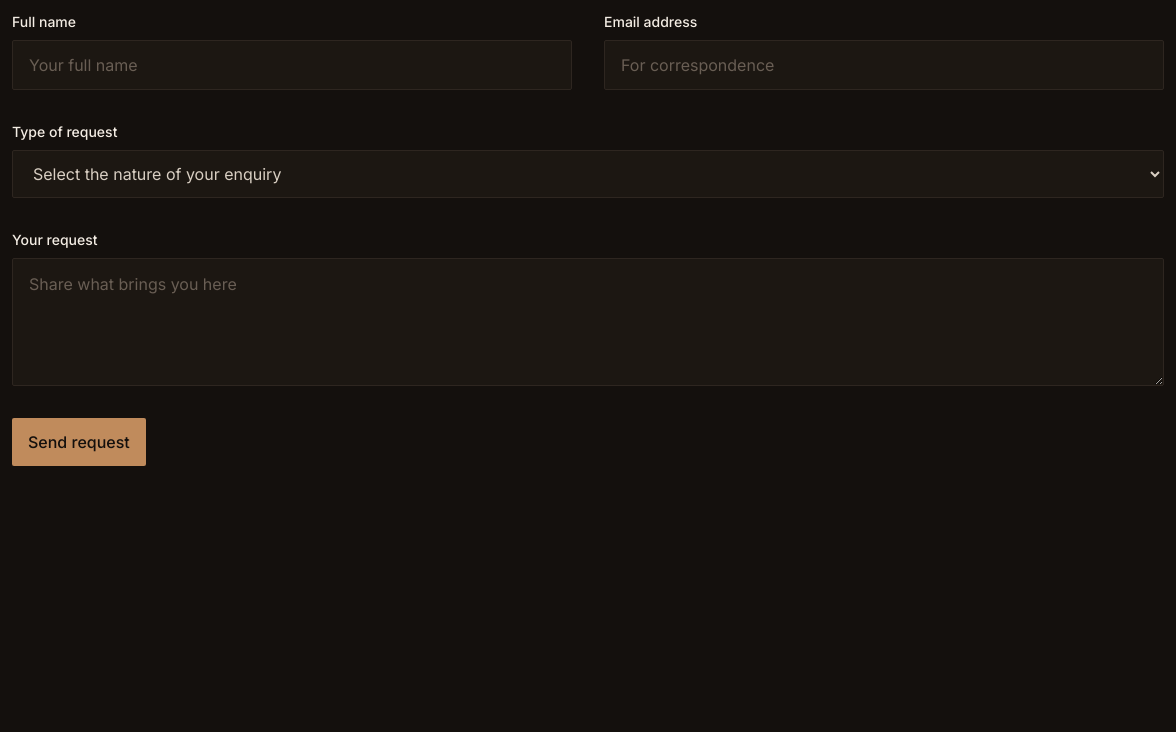
Scenario: RequestForm — submitting › preserves data when the submission fails
Type "Thandi Mokoena" into the field labelled "Full name" at (292, 65), box [12,40,572,90]
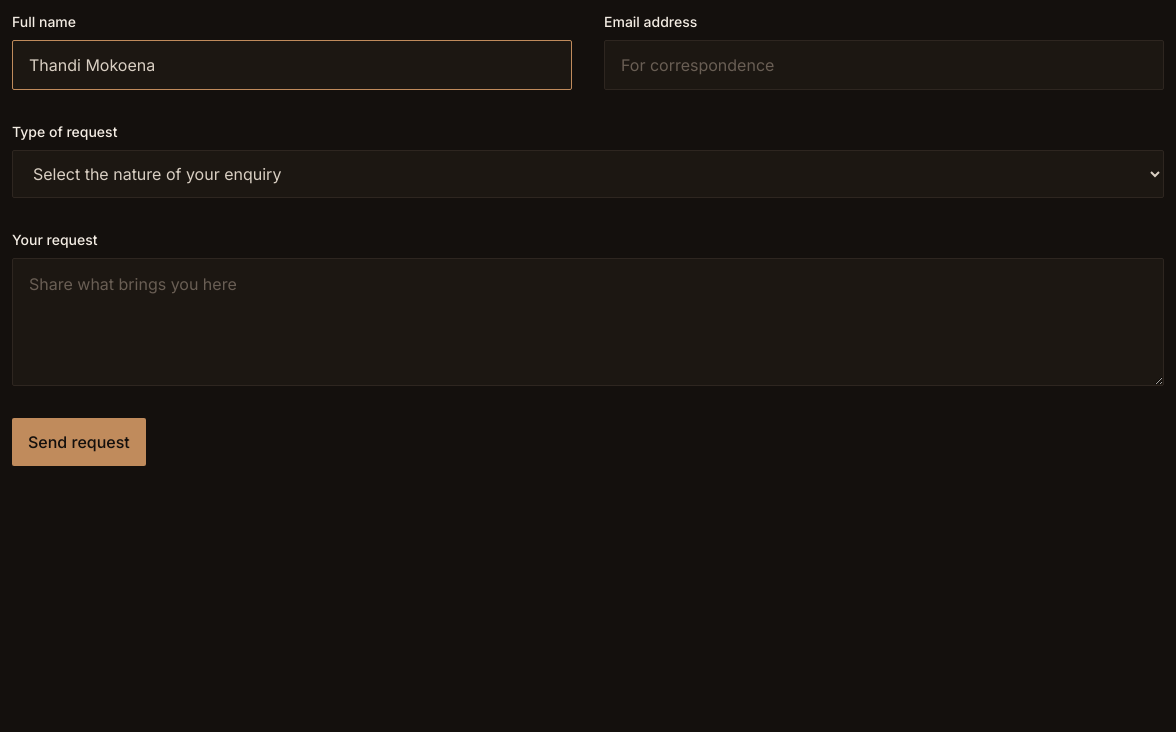
Type "thandi@example.com" into the field labelled "Email address" at (884, 65), box [604,40,1164,90]
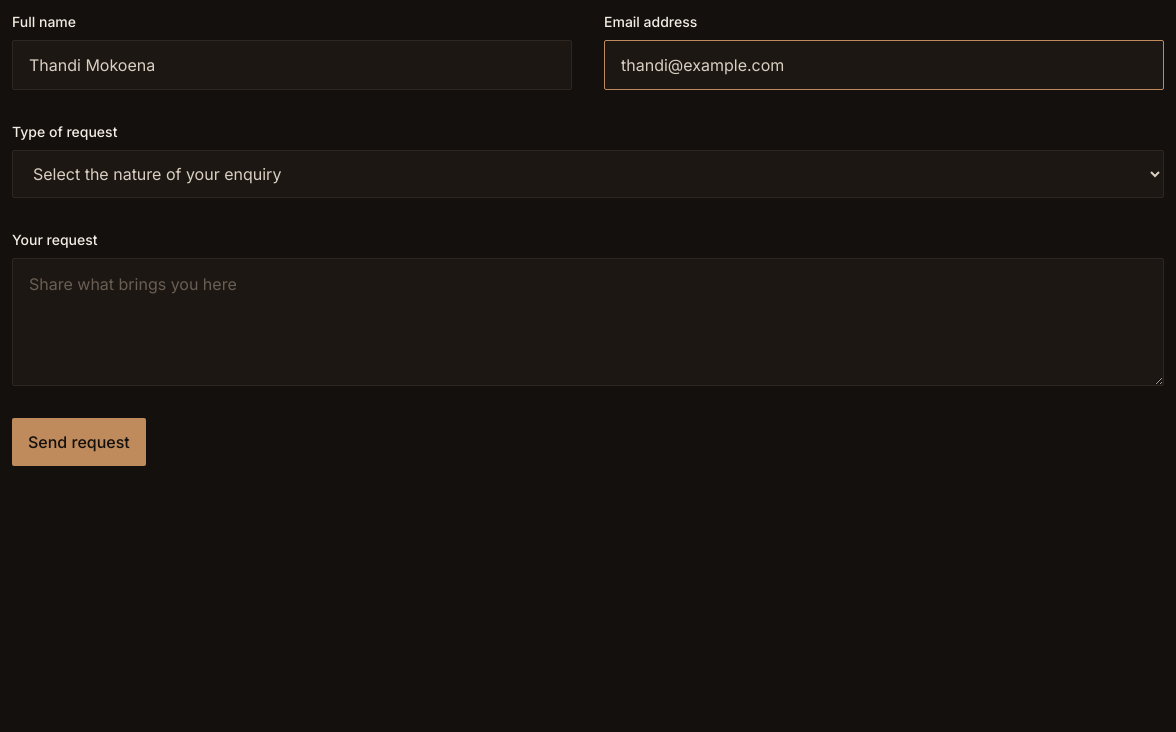
Select "Artist enquiry" in the dropdown labelled "Type of request" at (588, 174), box [12,150,1164,198]
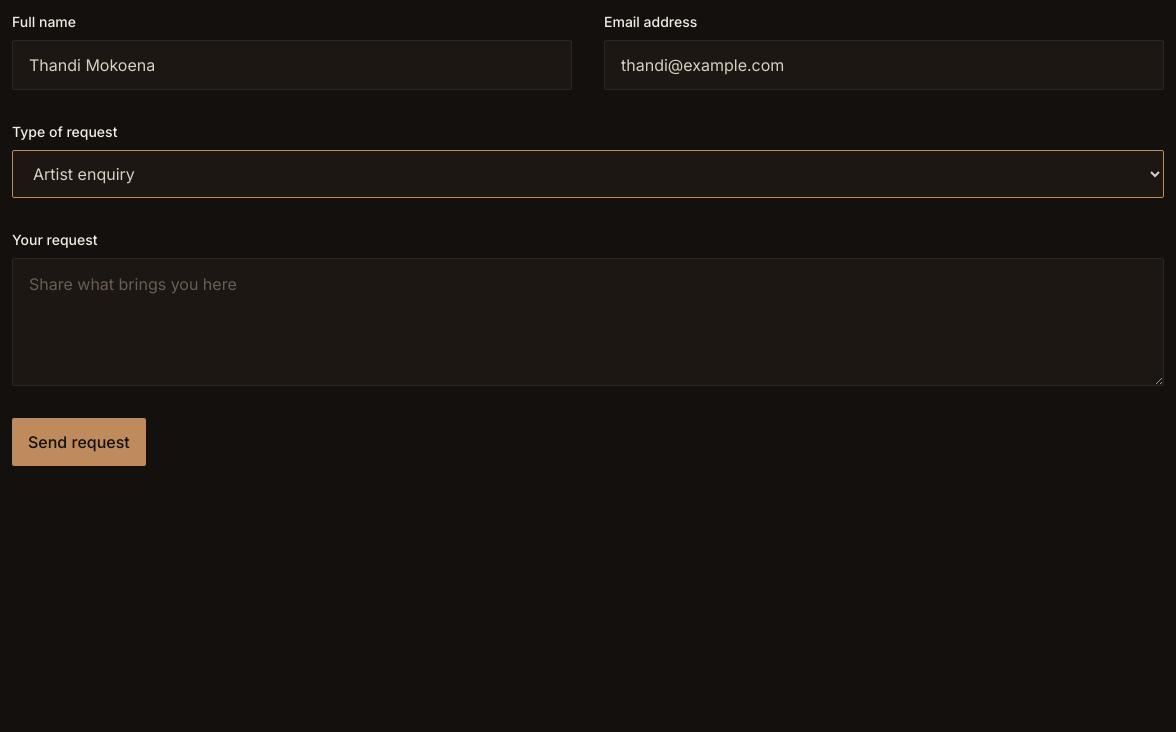
Type "Enquiry" into the text box labelled "Your request" at (588, 322), box [12,258,1164,386]
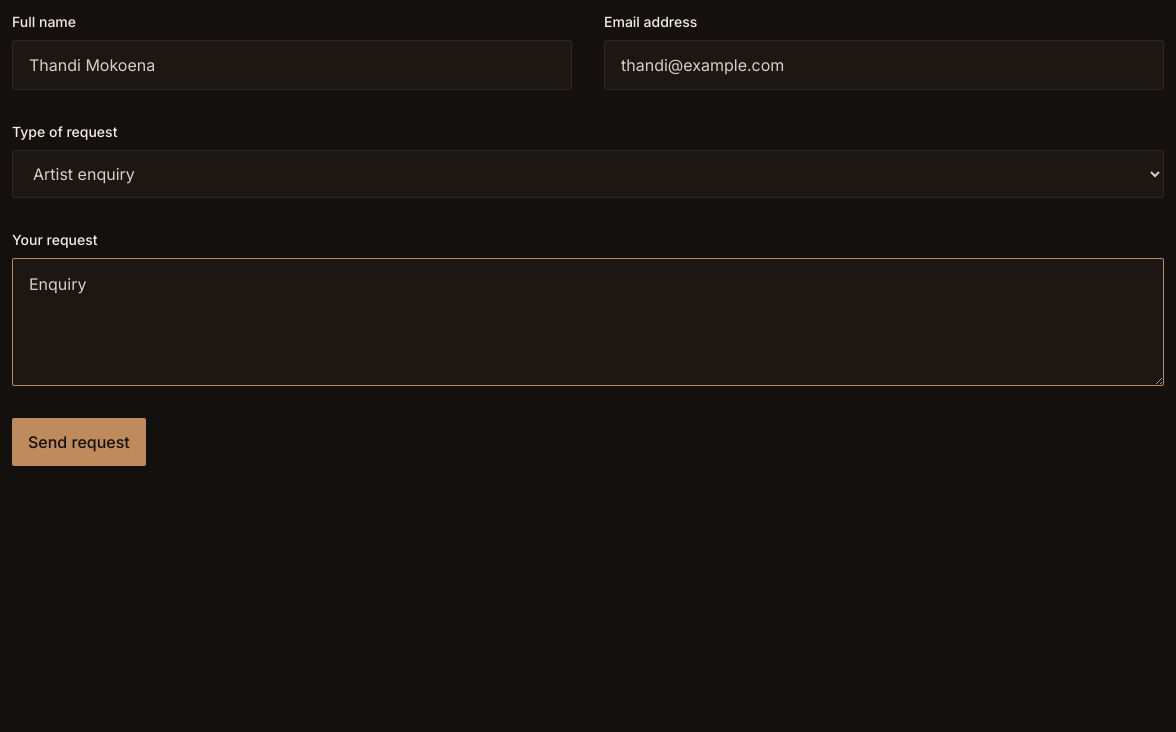
Click the button "Send request" at (79, 442), box [12,418,146,466]
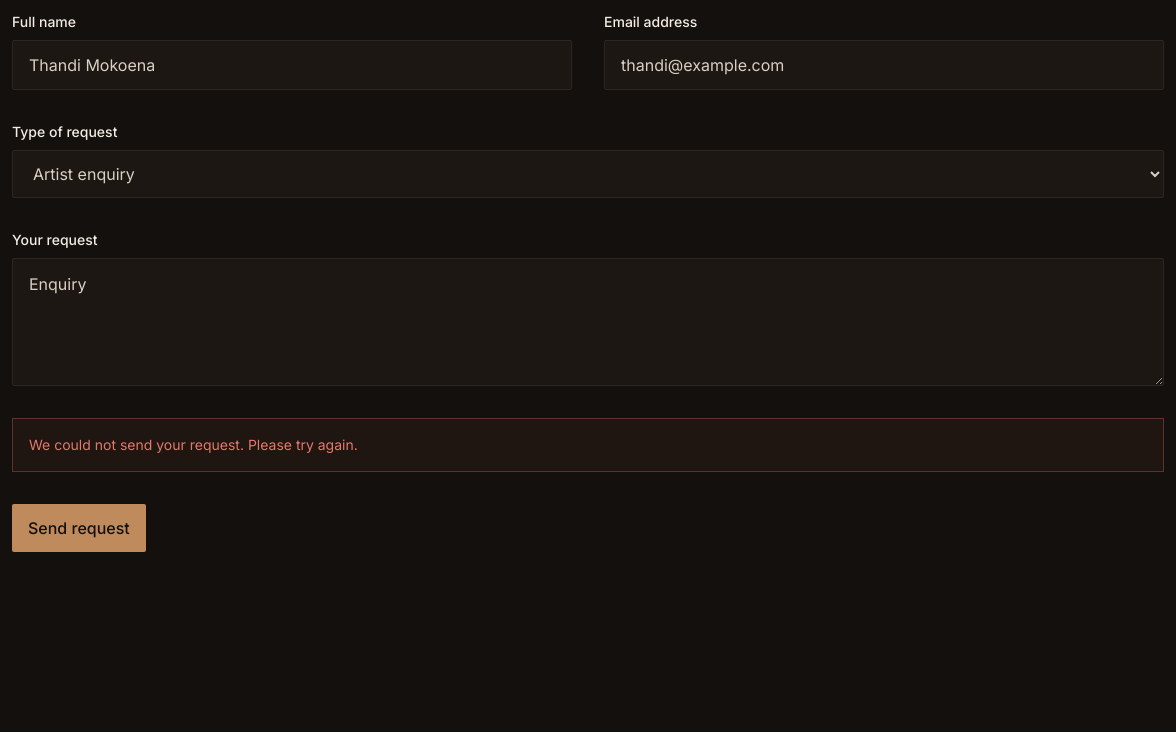
Check: the message shows "could not send", box [29,436,358,453]
